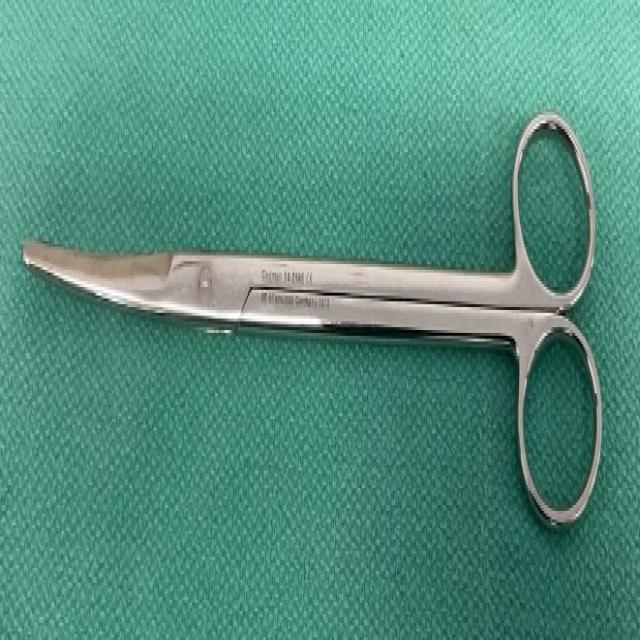Curved Mayo: (24, 102, 614, 546)
